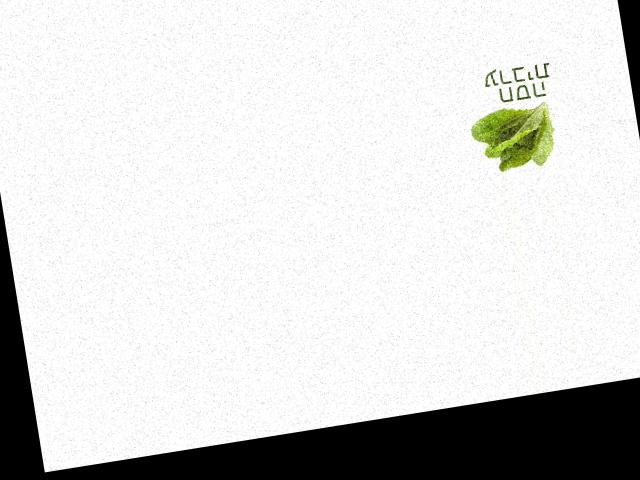lettuce: (466, 93, 564, 176)
